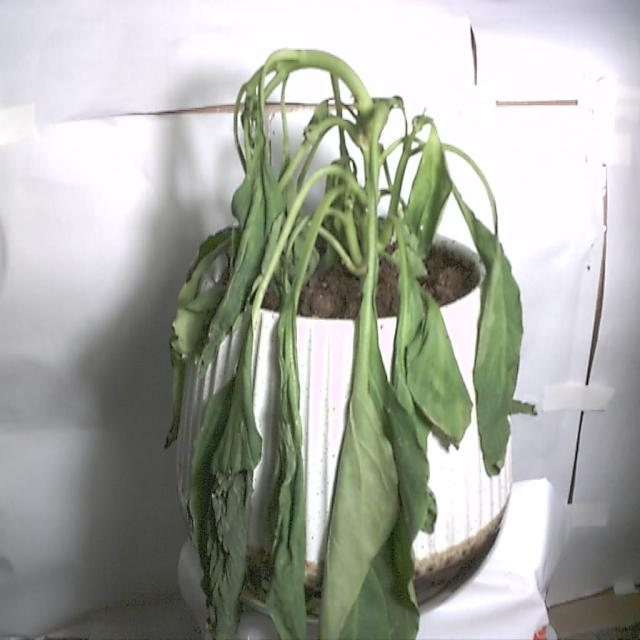Leaf: (318, 327, 420, 640), (189, 318, 264, 628), (264, 307, 308, 640), (471, 254, 523, 481)
